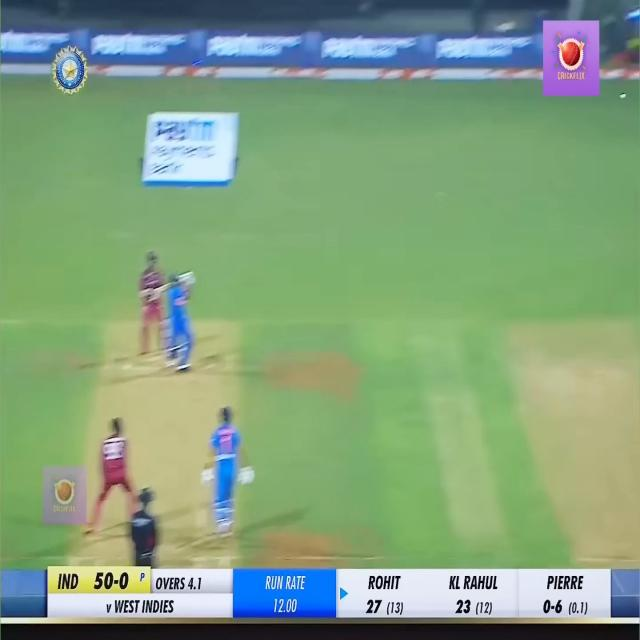partially_visible: (84, 27, 212, 72), (144, 120, 250, 163)
